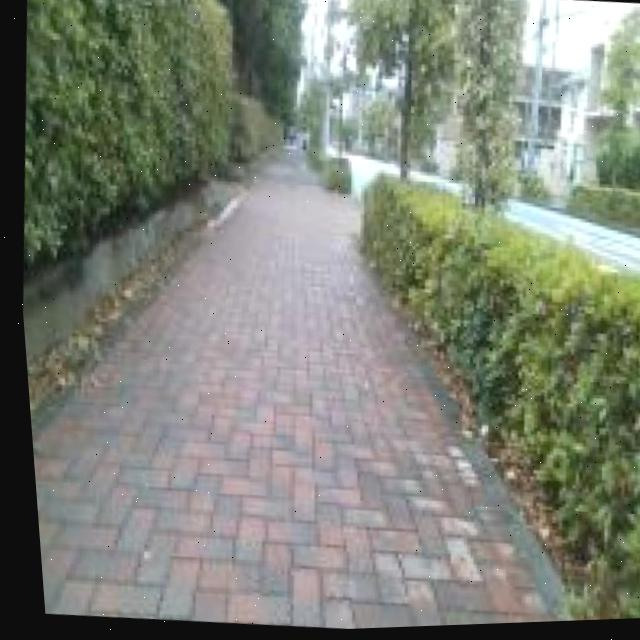Obstacle: (356, 180, 640, 625), (320, 162, 346, 193)
Road: (499, 203, 640, 276), (342, 156, 392, 199), (409, 174, 457, 194)
Sidewalk: (27, 162, 547, 631)
